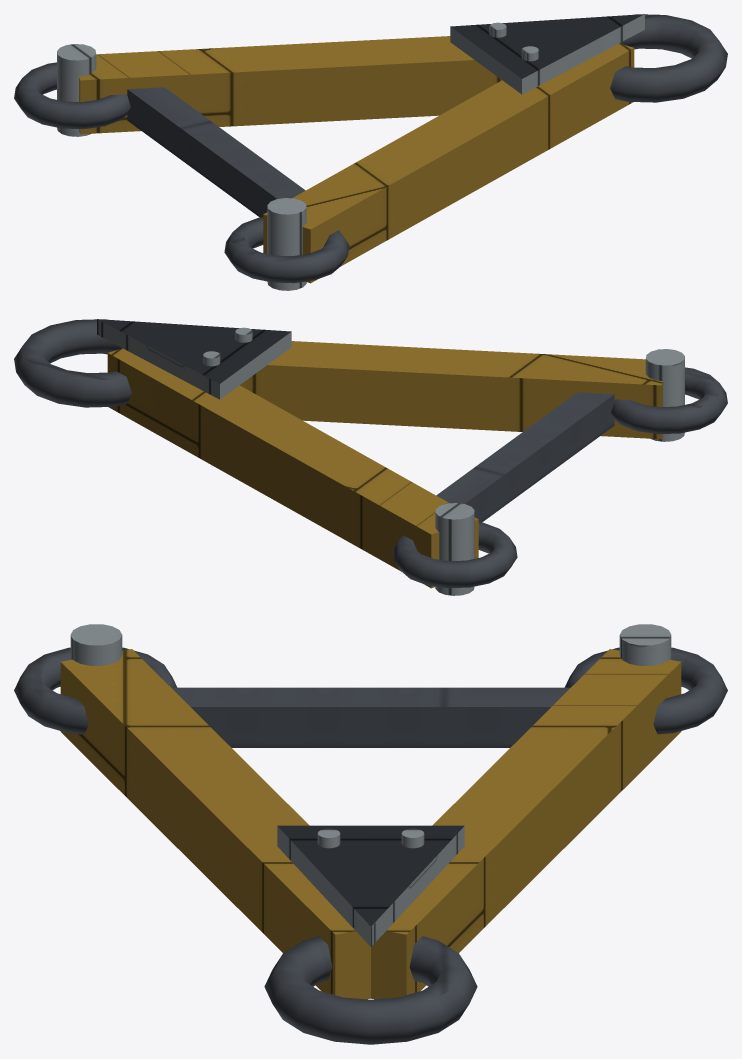
The model's file is cargo-tow-bridle-yoke_lod1.glb.
The picture shows the model from 3 angles, top to bottom: view 1: azimuth 30°, elevation 25°; view 2: azimuth 150°, elevation 25°; view 3: azimuth 270°, elevation 25°; orthographic projection. The views are drawn at different scales.
Visible parts, largest first — view 1: LOD1_Livery, LOD1_Mechanical, LOD1_BrushedMetal, LOD1_Armor; view 2: LOD1_Livery, LOD1_Mechanical, LOD1_BrushedMetal, LOD1_Armor; view 3: LOD1_Livery, LOD1_Mechanical, LOD1_Armor, LOD1_BrushedMetal.
Part boxes in pixels (x1=…): LOD1_Livery: x1=79, y1=36, x2=634, y2=283; LOD1_Mechanical: x1=14, y1=14, x2=727, y2=283; LOD1_BrushedMetal: x1=57, y1=14, x2=644, y2=290; LOD1_Armor: x1=450, y1=14, x2=644, y2=78; LOD1_Livery: x1=107, y1=341, x2=662, y2=588; LOD1_Mechanical: x1=14, y1=319, x2=727, y2=588; LOD1_BrushedMetal: x1=97, y1=319, x2=684, y2=595; LOD1_Armor: x1=97, y1=319, x2=291, y2=383; LOD1_Livery: x1=60, y1=649, x2=681, y2=999; LOD1_Mechanical: x1=14, y1=647, x2=727, y2=1044; LOD1_Armor: x1=277, y1=825, x2=464, y2=926; LOD1_BrushedMetal: x1=70, y1=624, x2=671, y2=946.
Size of the model in its own units: 2.75 by 0.385 by 2.21.
Materials: 4 (4 with a texture image).
